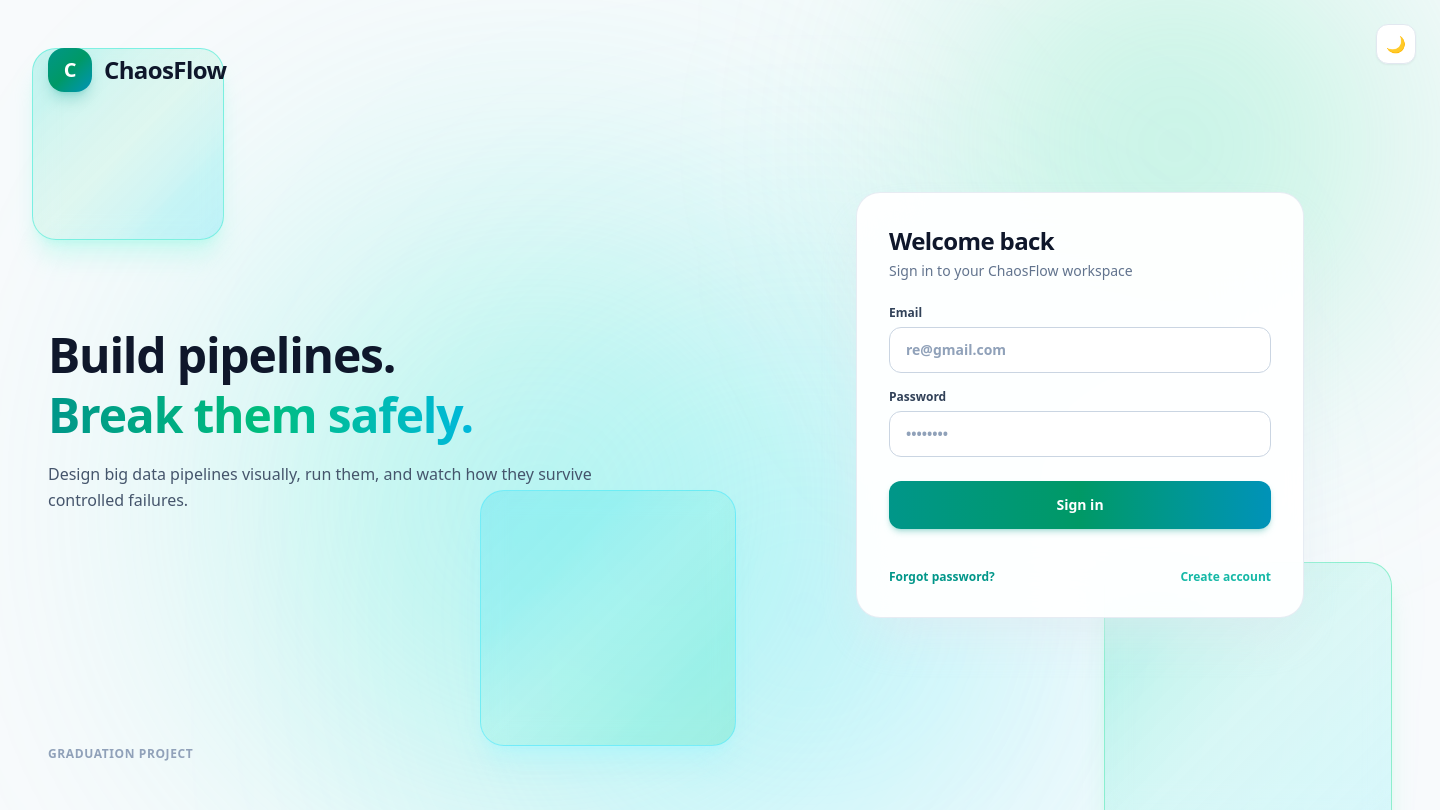
it: LoginPage › rejects an invalid email
The image size is (1440, 810).
Type "not-an-email" into the field labelled "Email" at [1080, 350], box [889, 327, 1271, 373]
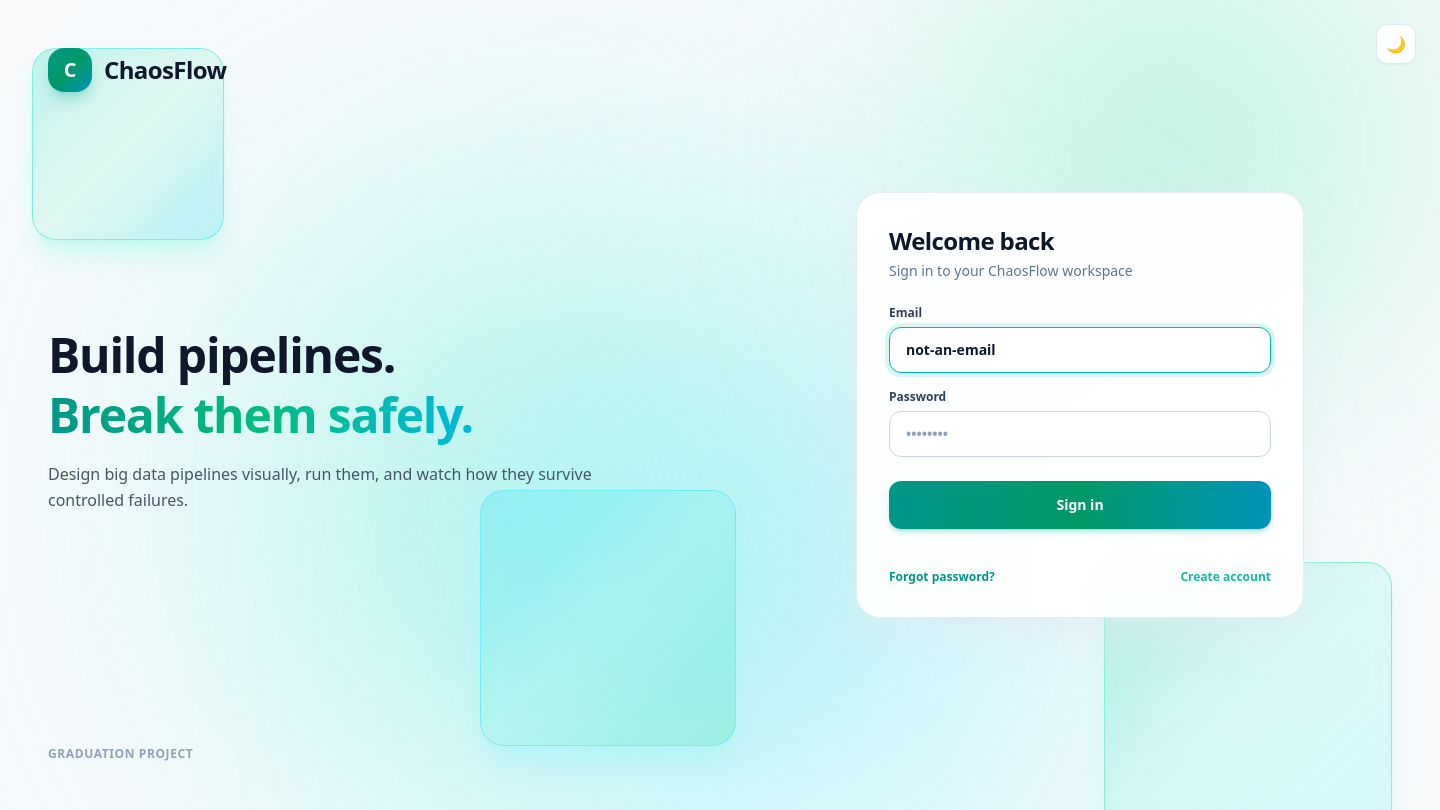
Type "password123" into the password field labelled "Password" at [1080, 434], box [889, 411, 1271, 457]
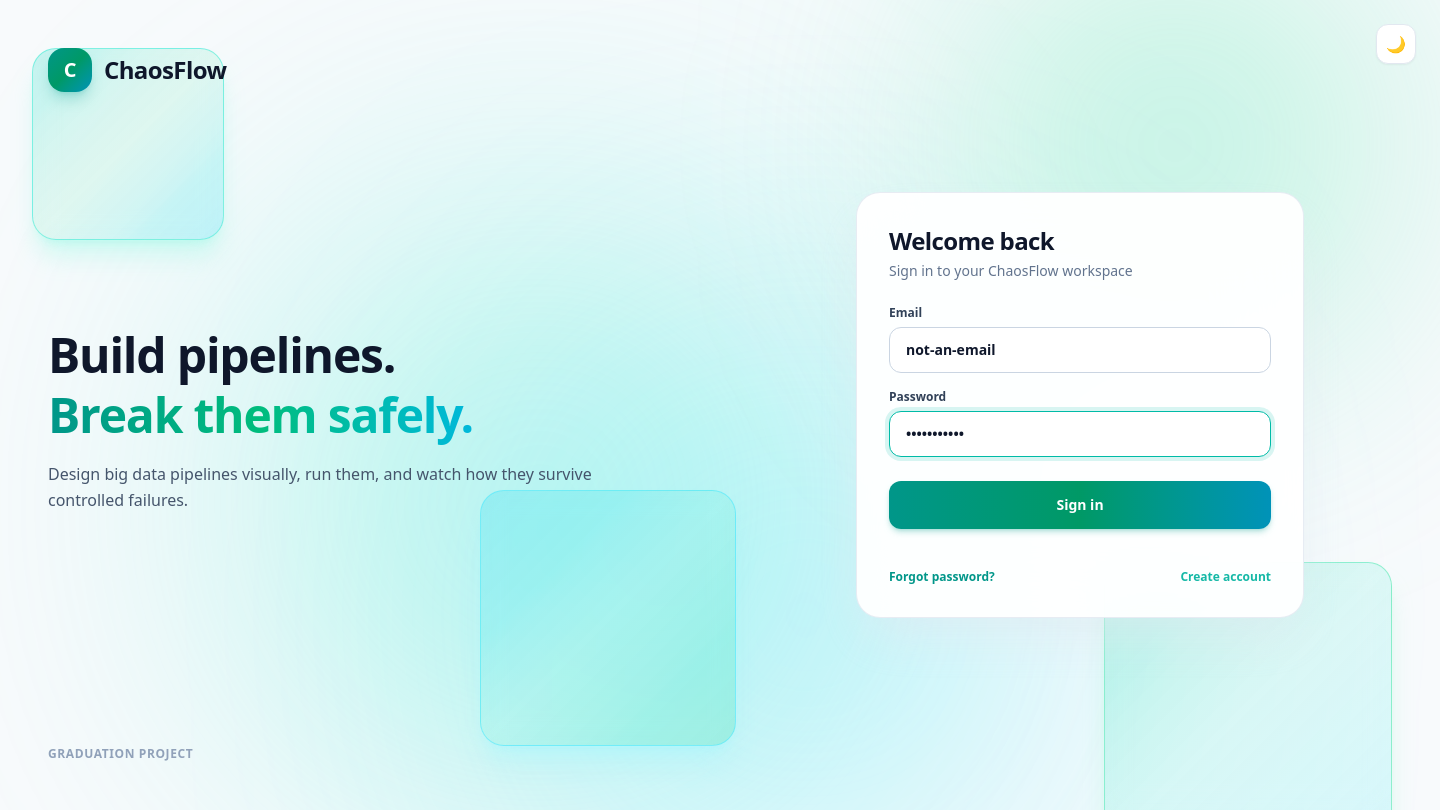
Click the button "Sign in" at [1080, 505], box [889, 481, 1271, 529]
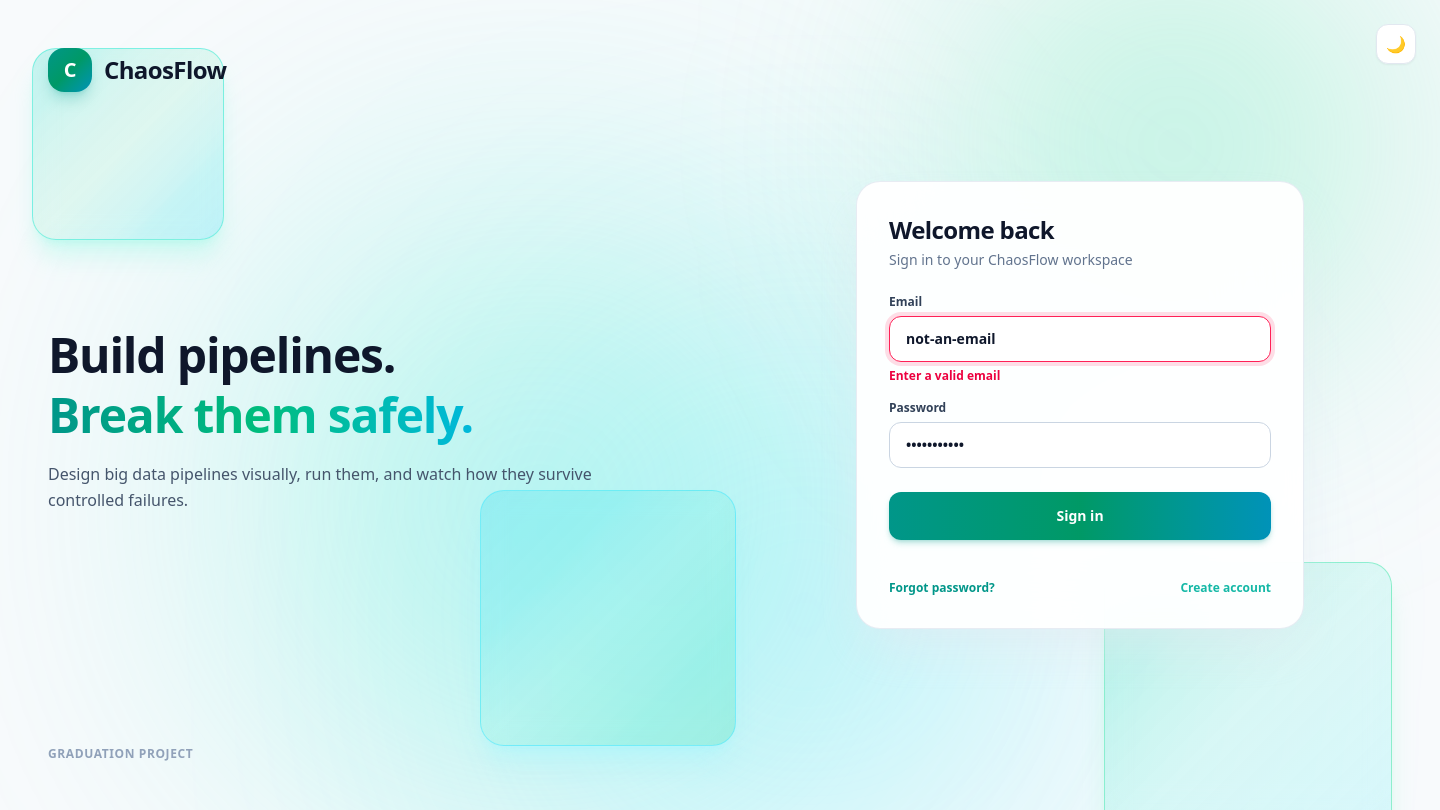
Now the text "Enter a valid email" is shown, box [889, 367, 1000, 384]
